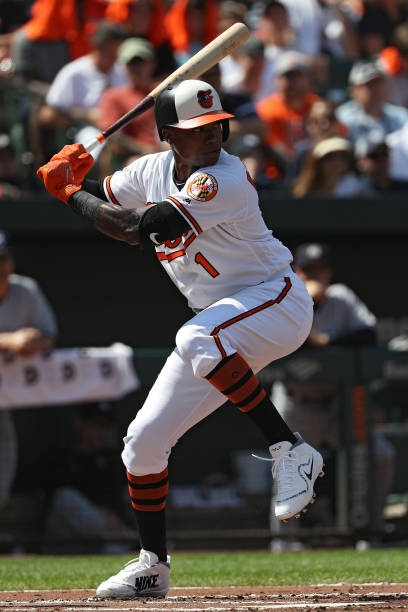bita: (83, 16, 249, 157)
